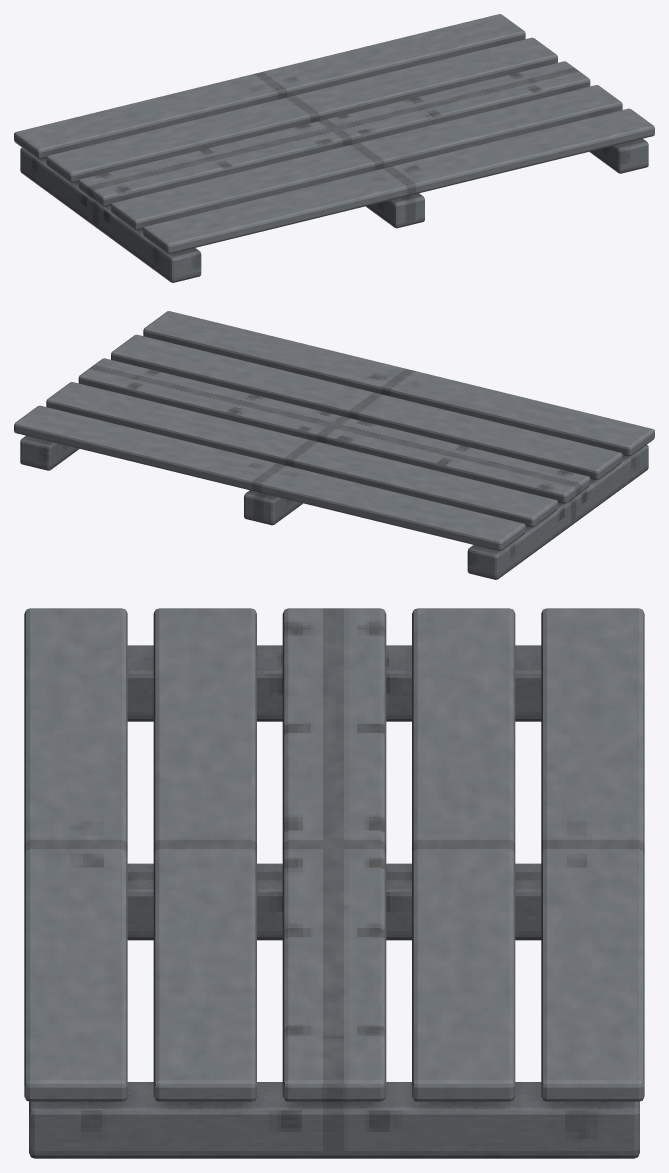
File: base_pallet.glb
3 renders of one model, top to bottom at view 1: azimuth 30°, elevation 25°; view 2: azimuth 150°, elevation 25°; view 3: azimuth 270°, elevation 25°, orthographic. The views are drawn at different scales.
Parts seen in each view (by area): view 1: base_pallet.001; view 2: base_pallet.001; view 3: base_pallet.001.
Boxes of the visible parts, x1,y1,x2,y2 form: base_pallet.001: (14, 14, 654, 282); base_pallet.001: (14, 311, 654, 579); base_pallet.001: (24, 608, 644, 1158).
Bounding box in the file's own units: 2.4 × 0.195 × 1.32.
Materials: 1 (1 with a texture image).
